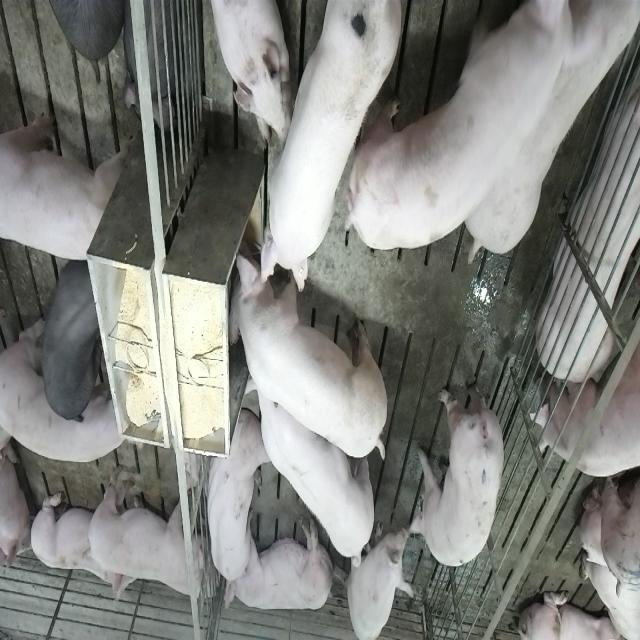Feeding: (246, 5, 400, 295), (221, 240, 385, 466)
Lateral_lying: (539, 30, 640, 392), (224, 513, 334, 615)
Sitting: (345, 513, 413, 639)
Standing: (458, 0, 636, 263), (348, 6, 511, 260), (246, 355, 380, 569), (2, 102, 128, 264), (408, 364, 506, 570), (1, 314, 130, 466), (85, 460, 217, 602), (533, 334, 640, 476)
Sternal_lying: (31, 486, 130, 608), (206, 0, 288, 144), (202, 409, 266, 591)
